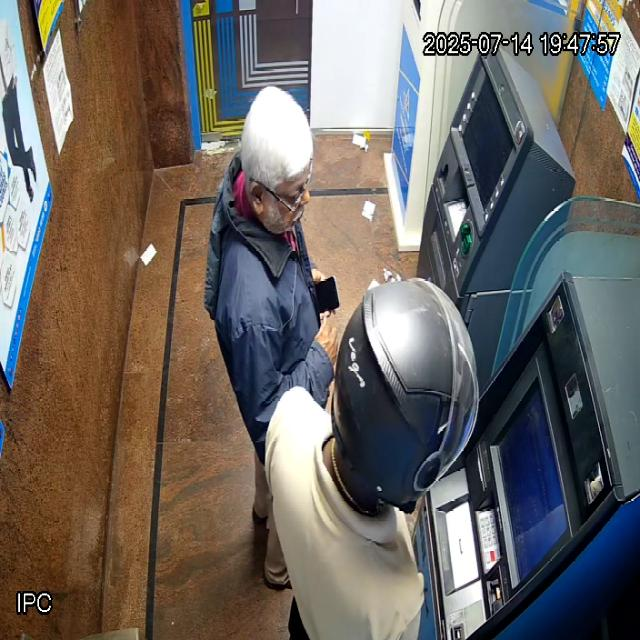helmet: (331, 277, 479, 515)
no_helmet: (241, 85, 313, 234)
